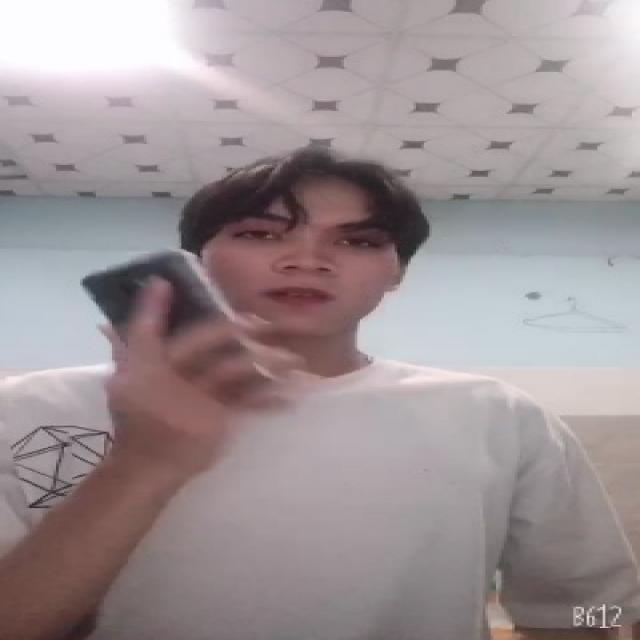Phone: (86, 243, 277, 404)
